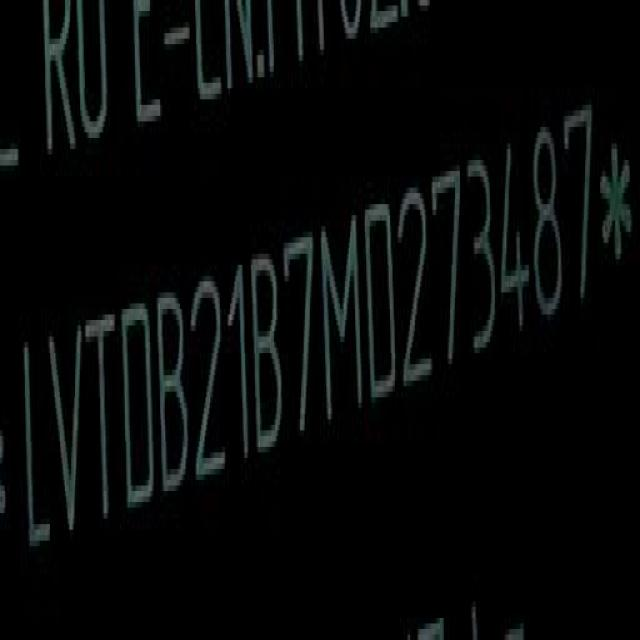1: (228, 264, 250, 470)
2: (193, 276, 230, 487), (398, 182, 432, 389)
3: (464, 149, 495, 361)
4: (499, 134, 531, 343)
7: (287, 230, 320, 443), (432, 161, 463, 378), (562, 99, 594, 309)
8: (531, 121, 563, 331)
B: (157, 287, 192, 498), (253, 245, 284, 459)
D: (121, 297, 158, 511), (365, 195, 398, 404)
L: (17, 334, 49, 560)
M: (321, 212, 364, 424)
T: (87, 307, 119, 533)
V: (47, 322, 85, 550)
